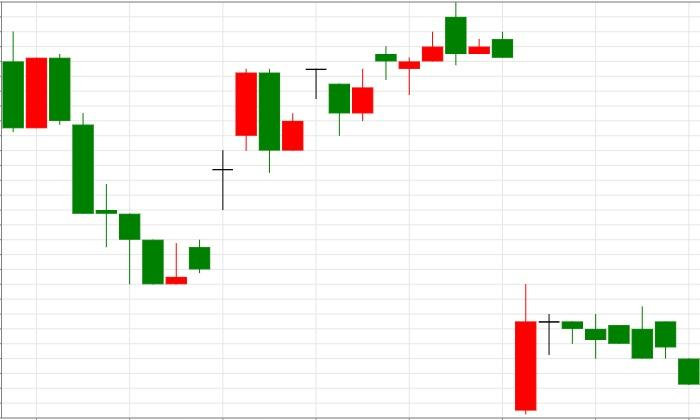bearish_engulfing_fall: (166, 69, 279, 285)
hammer_rise: (49, 54, 140, 284)
